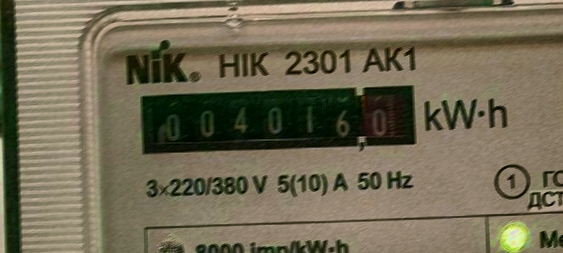0: (263, 101, 285, 136), (196, 104, 216, 139), (162, 108, 183, 141), (367, 104, 388, 136)
1: (301, 99, 317, 133)
4: (230, 101, 249, 135)
6: (331, 103, 351, 136)
screen: (133, 77, 424, 160)
